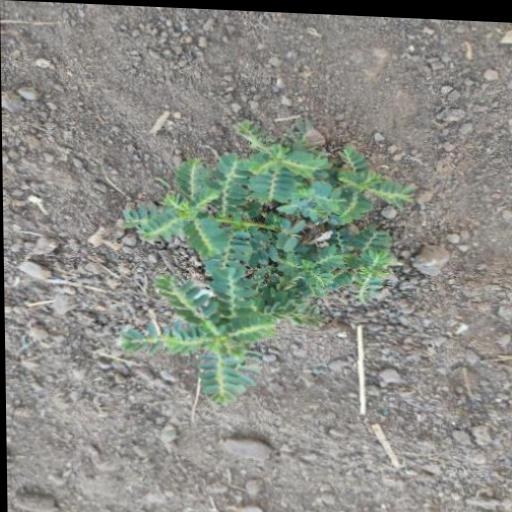weed: (122, 119, 406, 412)
